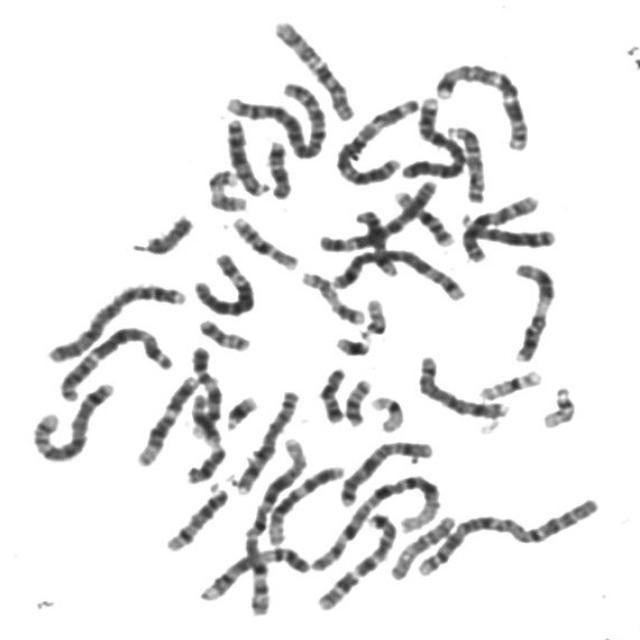A1: (305, 468, 446, 574), (236, 430, 311, 620)
A2: (409, 490, 604, 579), (220, 75, 330, 160)
A3: (52, 320, 175, 403), (329, 90, 422, 186)
B4: (39, 274, 189, 364), (396, 91, 468, 181)
B5: (324, 242, 469, 302), (26, 374, 117, 464)
C10: (267, 12, 358, 122), (458, 188, 542, 263)
C11: (505, 256, 559, 364), (182, 386, 228, 485)
C12: (262, 457, 348, 547), (130, 368, 202, 468)
C6: (312, 173, 441, 254), (187, 245, 260, 317)
C7: (428, 55, 533, 152), (310, 506, 401, 614)
C8: (229, 383, 302, 495), (412, 348, 513, 421)
C9: (194, 540, 314, 603), (184, 340, 226, 440)
D13: (455, 205, 559, 249), (219, 111, 272, 197)
D14: (160, 480, 232, 553), (352, 208, 400, 280)
D15: (384, 508, 459, 582), (441, 119, 490, 204)
E16: (226, 209, 301, 272), (386, 184, 456, 247)
E17: (296, 264, 368, 326), (201, 162, 250, 212)
E18: (260, 134, 296, 200), (313, 360, 349, 425)
F19: (472, 362, 546, 402), (364, 389, 406, 434)
F20: (192, 312, 254, 352), (339, 372, 374, 428)
G21: (219, 388, 260, 432), (329, 328, 375, 358)
G22: (536, 380, 580, 430), (357, 291, 391, 338)
X: (332, 433, 437, 508)
Y: (140, 208, 196, 255)
